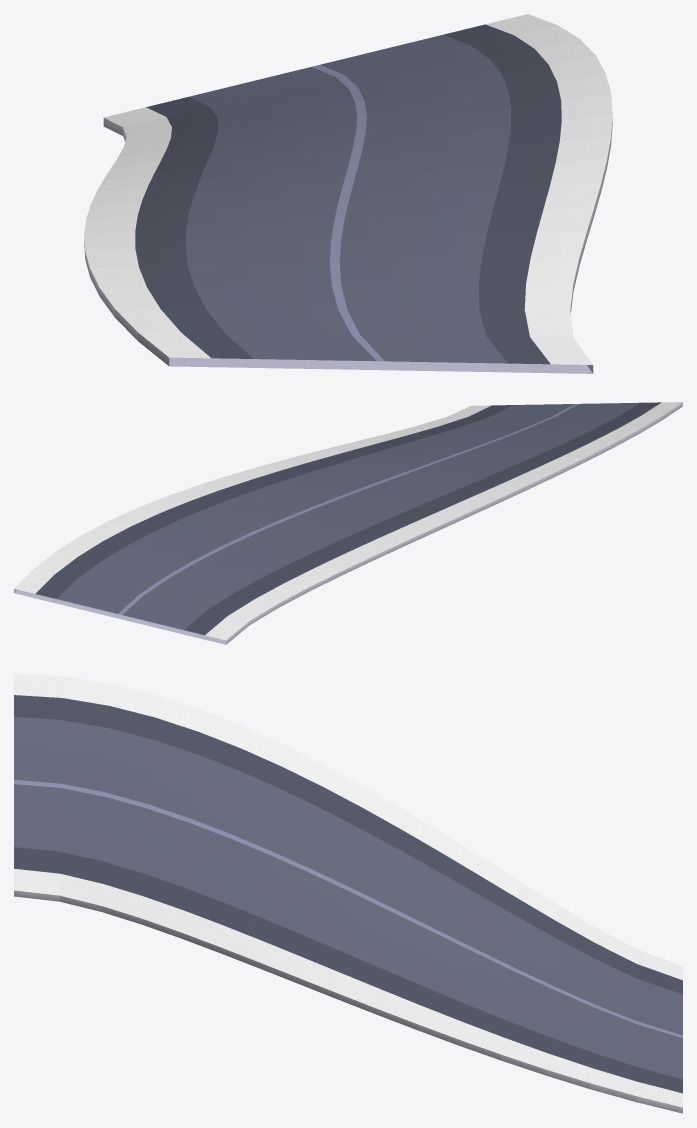
The model's file is road-Chicane-HalfBankedRight-BiSlopeDown-Down1-Right1-Size2.glb.
3 views of the same model, one above another, from view 1: azimuth 30°, elevation 25°; view 2: azimuth 150°, elevation 25°; view 3: azimuth 270°, elevation 25° (orthographic). The views are drawn at different scales.
Parts seen in each view (by area): view 1: road-Chicane-HalfBankedRight-BiSlopeDown-Down1-Right1-Size2; view 2: road-Chicane-HalfBankedRight-BiSlopeDown-Down1-Right1-Size2; view 3: road-Chicane-HalfBankedRight-BiSlopeDown-Down1-Right1-Size2.
Part boxes in pixels (x1,y1,x2,y2): road-Chicane-HalfBankedRight-BiSlopeDown-Down1-Right1-Size2: [84, 14, 612, 373]; road-Chicane-HalfBankedRight-BiSlopeDown-Down1-Right1-Size2: [14, 402, 682, 644]; road-Chicane-HalfBankedRight-BiSlopeDown-Down1-Right1-Size2: [14, 673, 682, 1113].
Size of the model in its own units: 2 by 0.52 by 2.
1 material, 1 textured.
